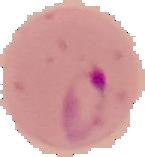parasitized: (60, 62, 116, 148)
